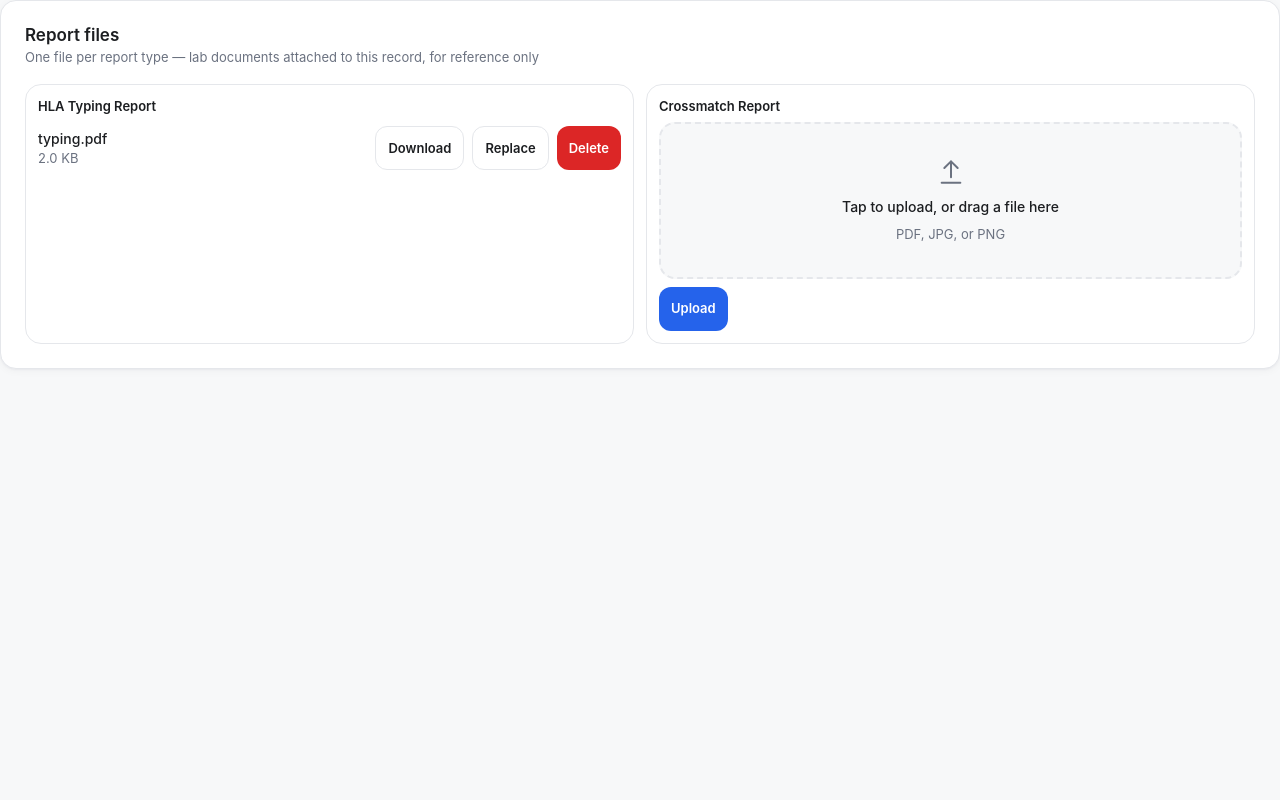
ReportFilesCard › deletes a file after confirming in the modal, reopening the slot for upload
Click the button "Delete": (589, 148) [557,126,621,170]
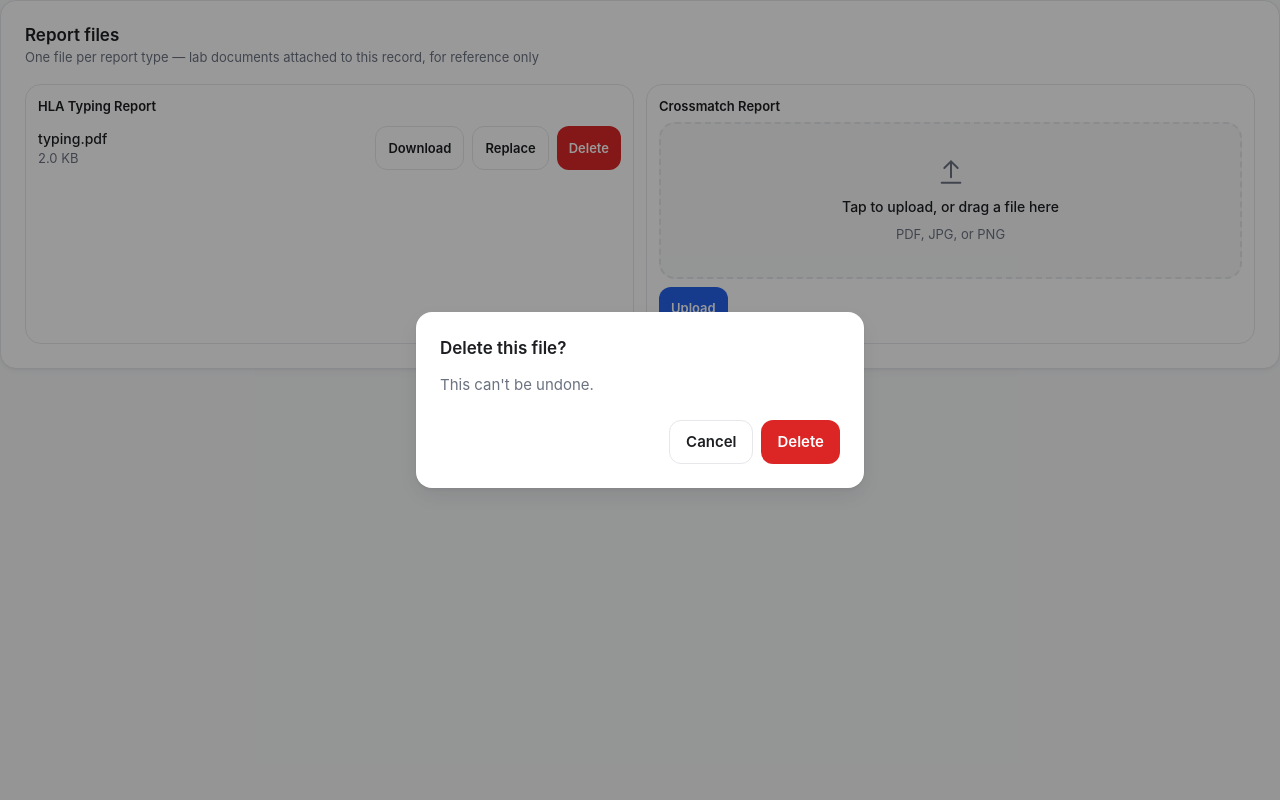
Click the button "Delete": (801, 442) [762,420,840,464]
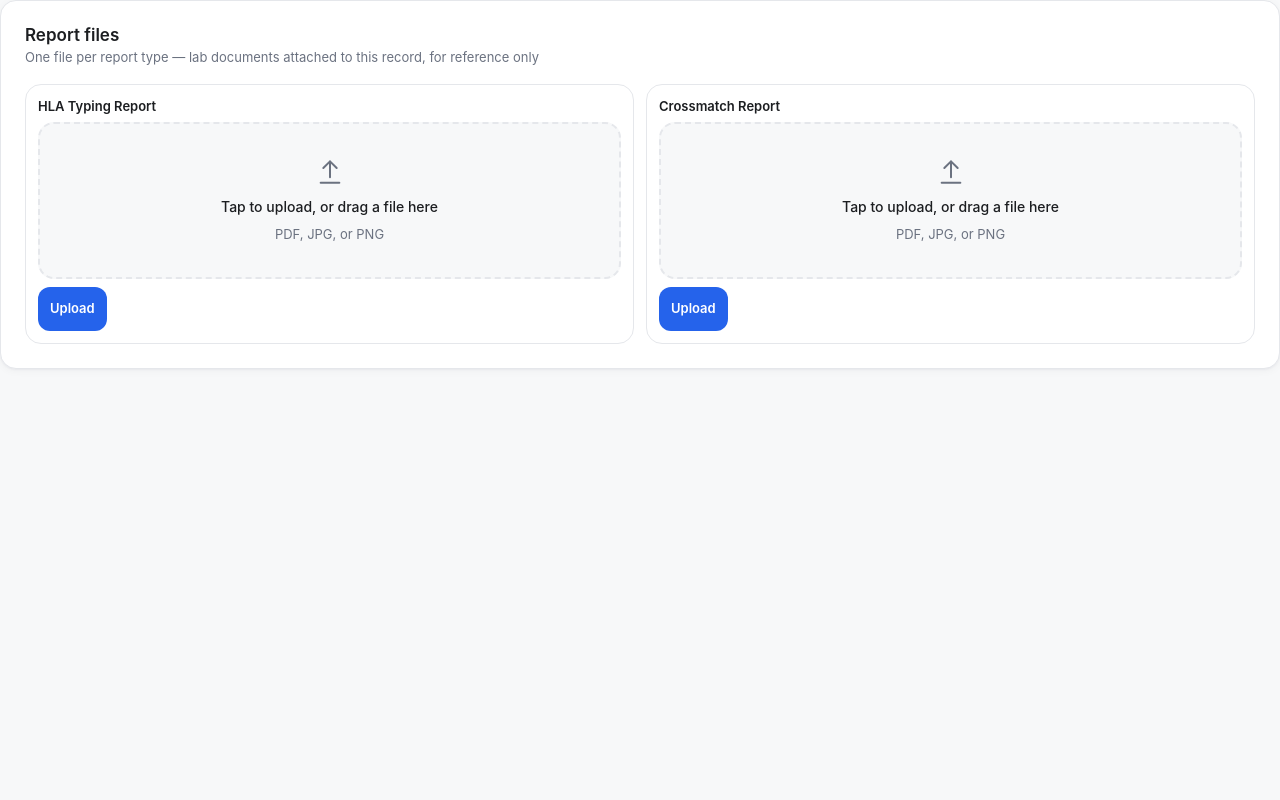
Expected: the file field labelled "HLA Typing Report" is shown, [38,98,156,114]
Now the text "typing.pdf" is gone
